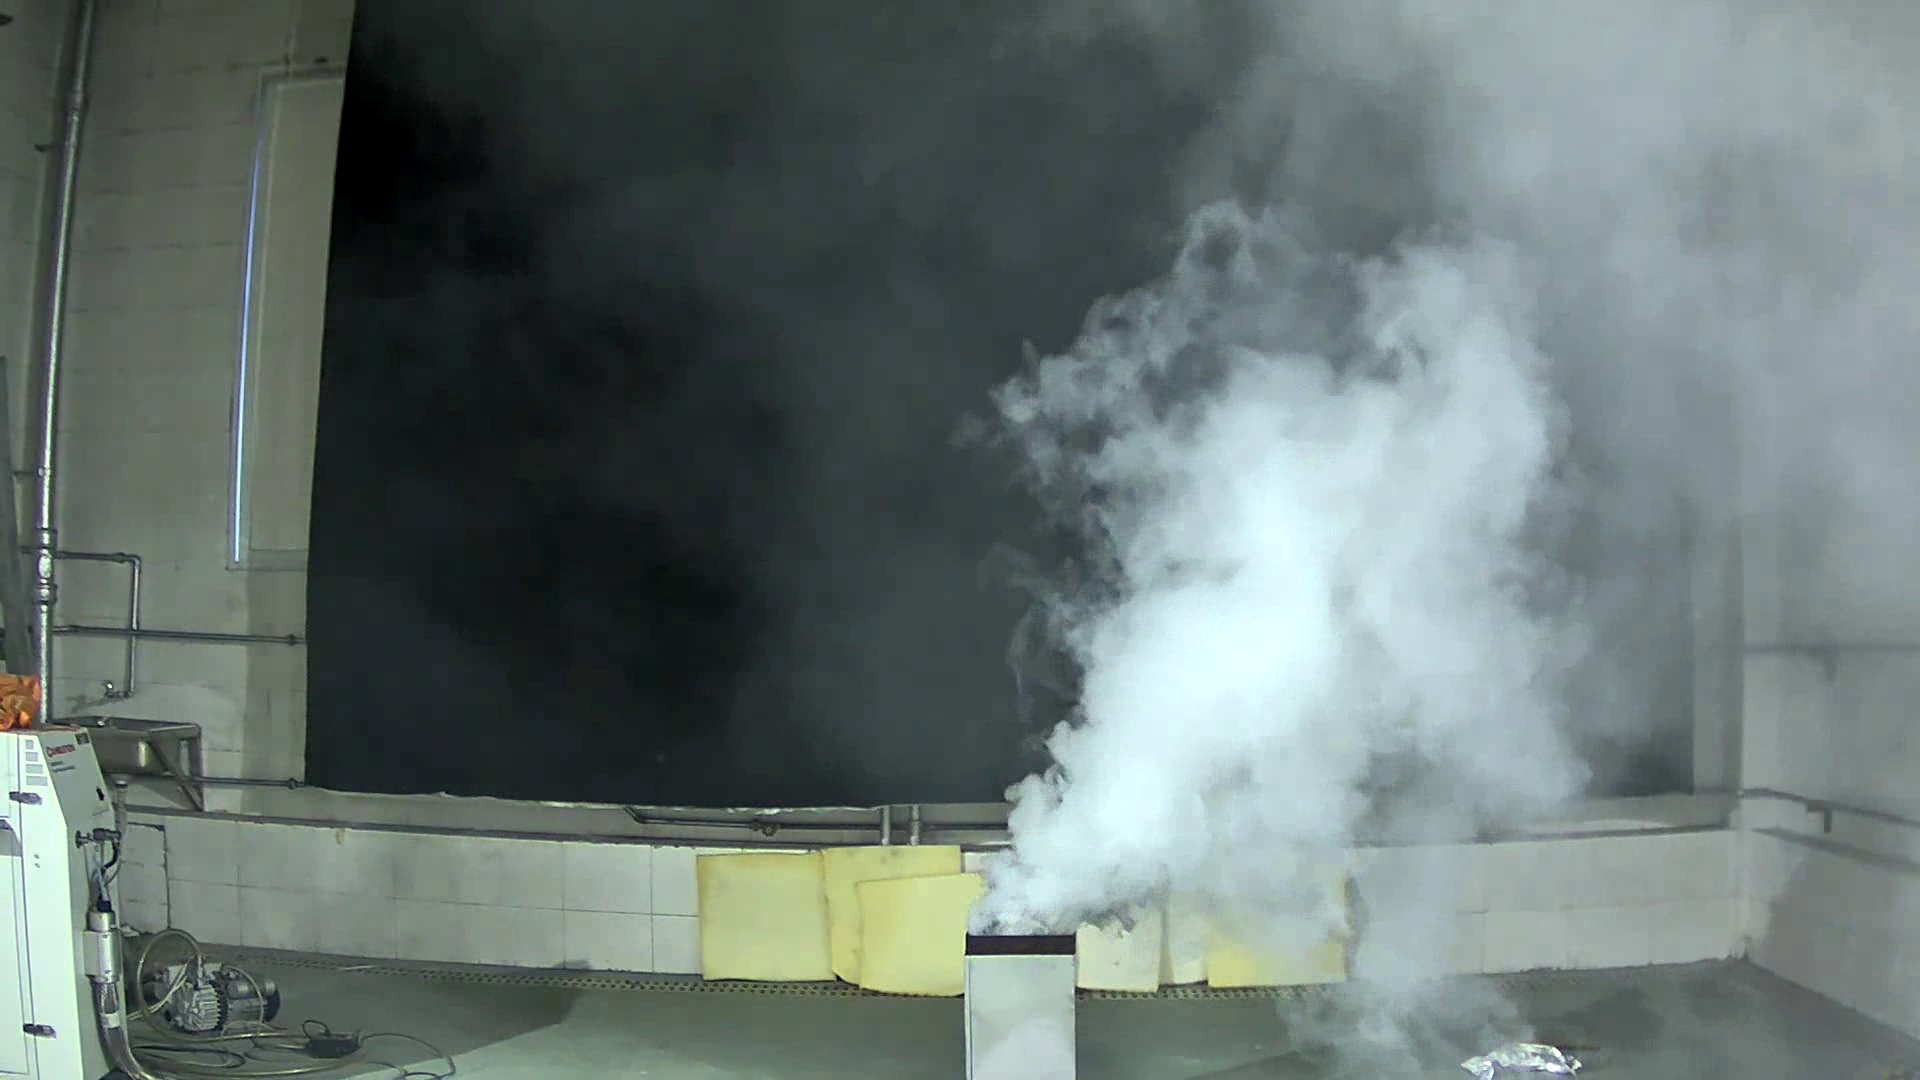smoke: (938, 195, 1621, 943)
